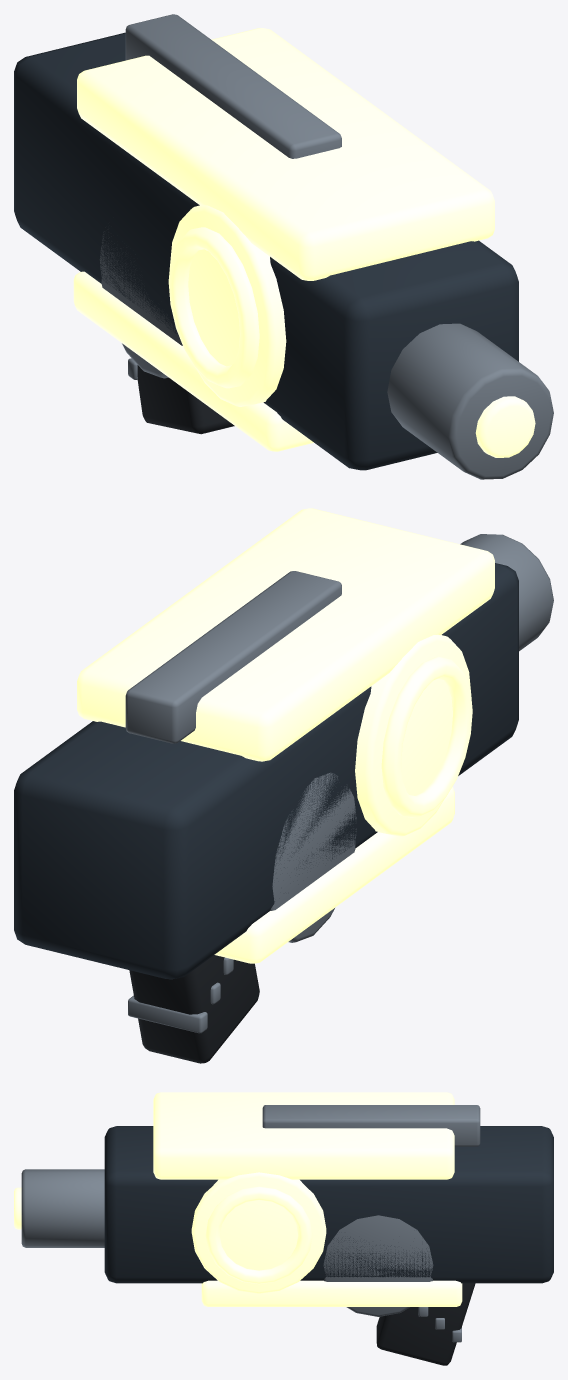
Rendered from Raider_ARXBuster.fbx.
3 views of the same model, one above another, from view 1: azimuth 30°, elevation 25°; view 2: azimuth 150°, elevation 25°; view 3: azimuth 270°, elevation 25° (orthographic). The views are drawn at different scales.
Visible parts, largest first — view 1: Receiver.010, UpperArmor.005, Muzzle.005, TopRail.010, EnergyChamber.005, LowerArmor.005, EnergyRingLeft.005, Grip.010, MuzzleGlow.005, Drum.001; view 2: Receiver.010, UpperArmor.005, TopRail.010, EnergyChamber.005, Grip.010, LowerArmor.005, Drum.001, EnergyRingLeft.005, Muzzle.005, GripRib_03.010; view 3: Receiver.010, UpperArmor.005, EnergyChamber.005, Muzzle.005, Drum.001, LowerArmor.005, TopRail.010, Grip.010, EnergyRingRight.005.
Boxes of the visible parts, x1,y1,x2,y2 form: Receiver.010: (14,32,518,470); UpperArmor.005: (77,28,494,280); Muzzle.005: (387,323,553,479); TopRail.010: (125,14,341,158); EnergyChamber.005: (169,205,286,406); LowerArmor.005: (73,271,313,451); EnergyRingLeft.005: (168,227,259,388); Grip.010: (137,365,234,434); MuzzleGlow.005: (475,396,535,457); Drum.001: (99,227,182,378); Receiver.010: (14,563,518,979); UpperArmor.005: (77,508,494,761); TopRail.010: (125,571,341,743); EnergyChamber.005: (355,634,471,836); Grip.010: (129,955,259,1063); LowerArmor.005: (214,787,454,963); Drum.001: (270,772,356,942); EnergyRingLeft.005: (381,656,472,817); Muzzle.005: (460,534,553,651); GripRib_03.010: (128,995,207,1033); Receiver.010: (104,1126,553,1283); UpperArmor.005: (153,1092,454,1179); EnergyChamber.005: (191,1172,326,1293); Muzzle.005: (21,1169,104,1247); Drum.001: (323,1215,433,1316); LowerArmor.005: (201,1280,462,1306); TopRail.010: (262,1105,480,1146); Grip.010: (376,1283,475,1365); EnergyRingRight.005: (205,1186,312,1284).
Bounding box in the file's own units: 122 × 193 × 385.
